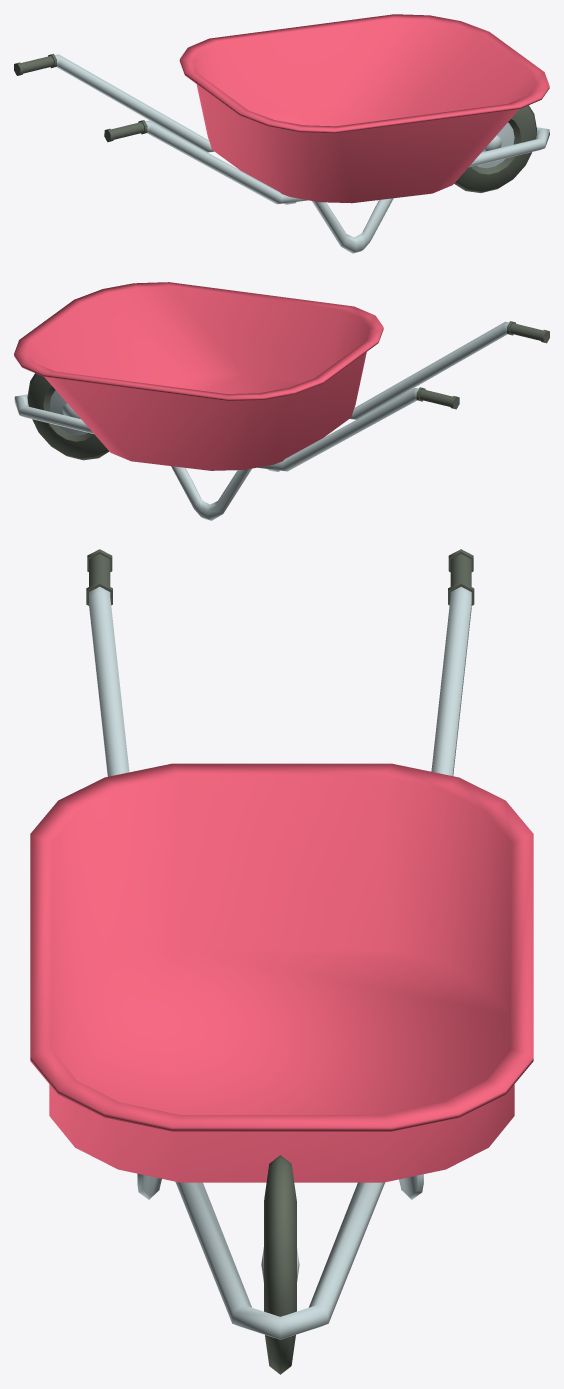
Rendered from SM_Brouette.FBX.
3 views of the same model, one above another, from view 1: azimuth 30°, elevation 25°; view 2: azimuth 150°, elevation 25°; view 3: azimuth 270°, elevation 25° (orthographic). The views are drawn at different scales.
Parts seen in each view (by area): view 1: Brouette; view 2: Brouette; view 3: Brouette.
Boxes of the visible parts, x1,y1,x2,y2 form: Brouette: (14,14,549,253); Brouette: (14,282,549,520); Brouette: (30,549,533,1374).
Bounding box in the file's own units: 220 × 85.98 × 98.37.
1 material, 1 textured.
